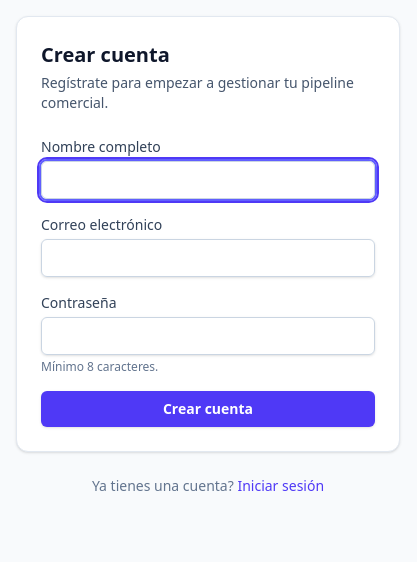
Scenario: Página /register — wiring real por defecto (F05-T01) › muestra el mensaje del servidor en errores de validación (400)
The image size is (417, 562).
Type "Ana García" into the field labelled "Nombre completo".
click(208, 180); type("Ana García")  # box left=41, top=161, right=375, bottom=199
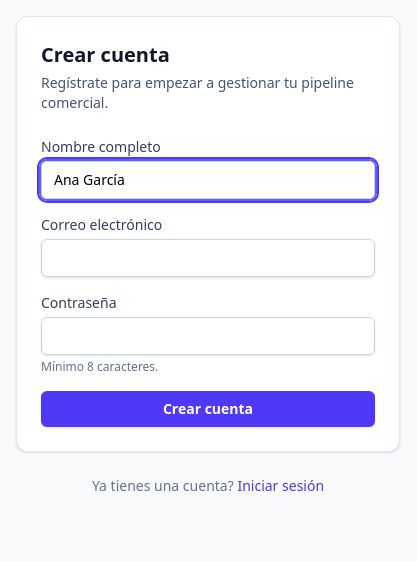
Type "ana@example.com" into the field labelled "Correo electrónico".
click(208, 258); type("ana@example.com")  # box left=41, top=239, right=375, bottom=277
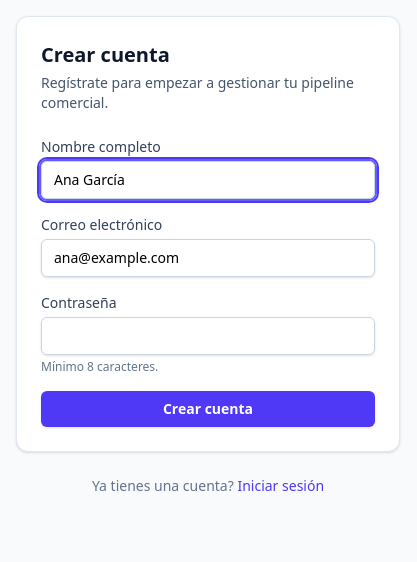
Type "valida1234" into the password field labelled "Contraseña".
click(208, 336); type("valida1234")  # box left=41, top=317, right=375, bottom=355
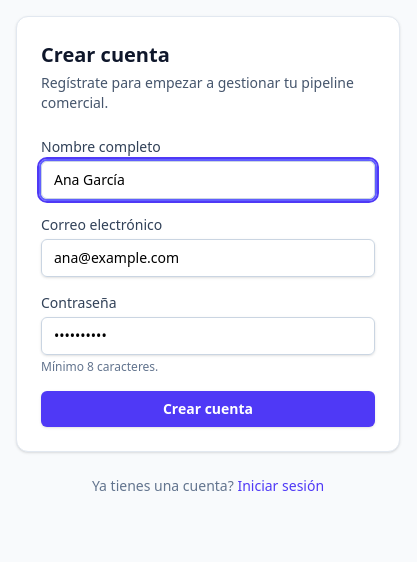
Click the button "Crear cuenta".
click(208, 409)  # box left=41, top=391, right=375, bottom=427
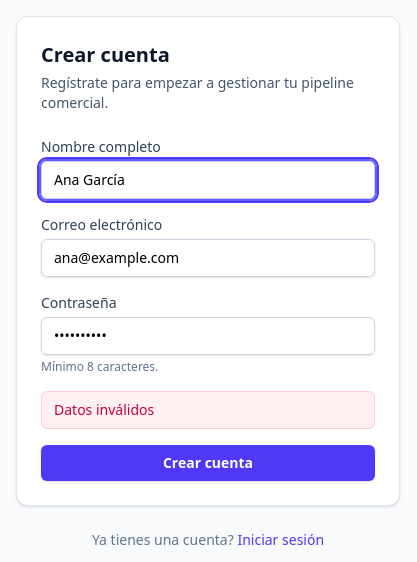
Check: the text "Datos inválidos" is shown, box left=41, top=391, right=375, bottom=429
